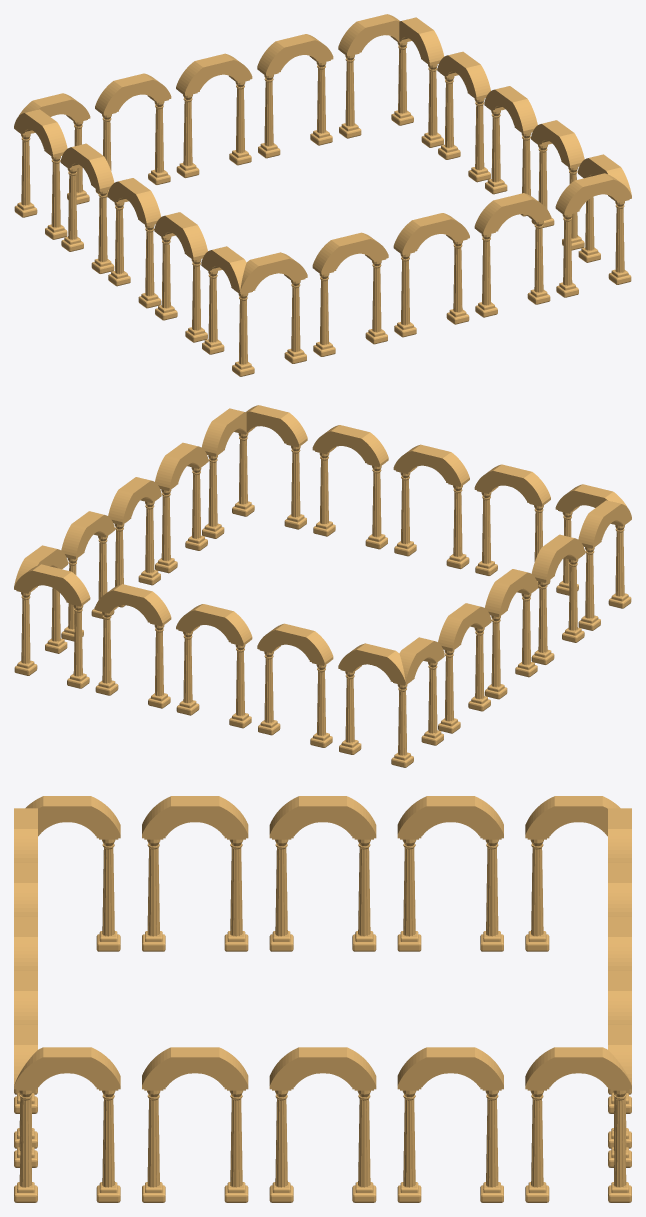
The model's file is columns.gltf.
3 renders of one model, top to bottom at view 1: azimuth 30°, elevation 25°; view 2: azimuth 150°, elevation 25°; view 3: azimuth 270°, elevation 25°, orthographic. The views are drawn at different scales.
Parts seen in each view (by area): view 1: Column Backup.001; view 2: Column Backup.001; view 3: Column Backup.001.
Part boxes in pixels (x1=…): Column Backup.001: x1=14, y1=14, x2=631, y2=376; Column Backup.001: x1=14, y1=405, x2=631, y2=767; Column Backup.001: x1=14, y1=796, x2=631, y2=1202.
Size of the model in its own units: 1.54 by 0.4029 by 1.54.
Materials: 1 (1 with a texture image).
